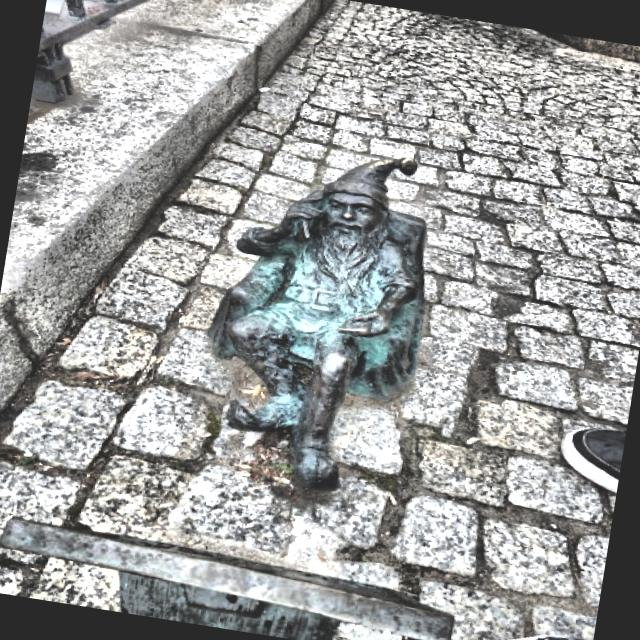Dialogomir: (212, 158, 426, 492), (0, 520, 454, 640)
